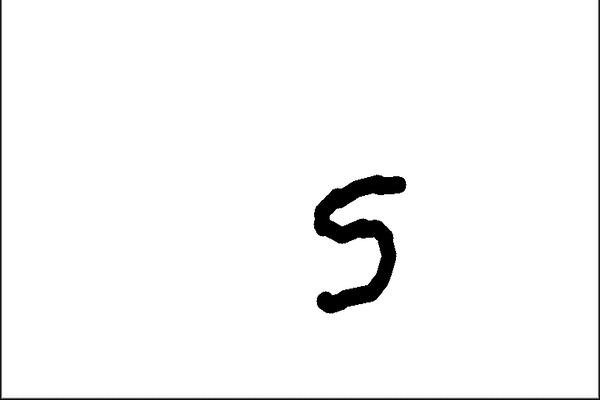S: (303, 165, 406, 316)
